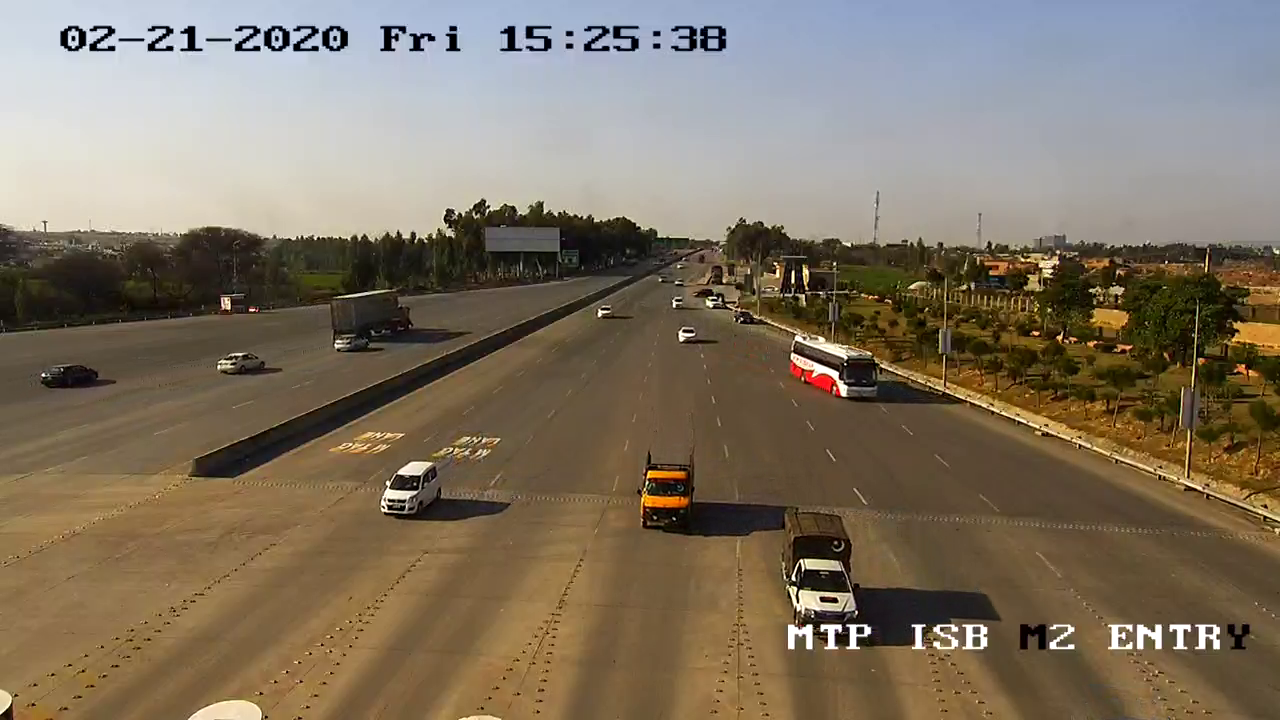f1: (769, 507, 869, 637), (620, 443, 712, 536), (374, 449, 447, 530)
f4: (785, 328, 884, 407)
